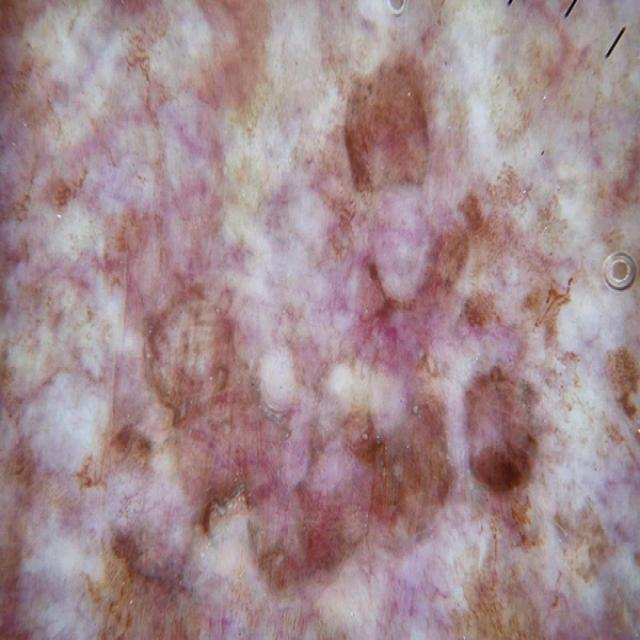Benign-Keratosis-like-Lesions-BKL-: (31, 32, 597, 615)
